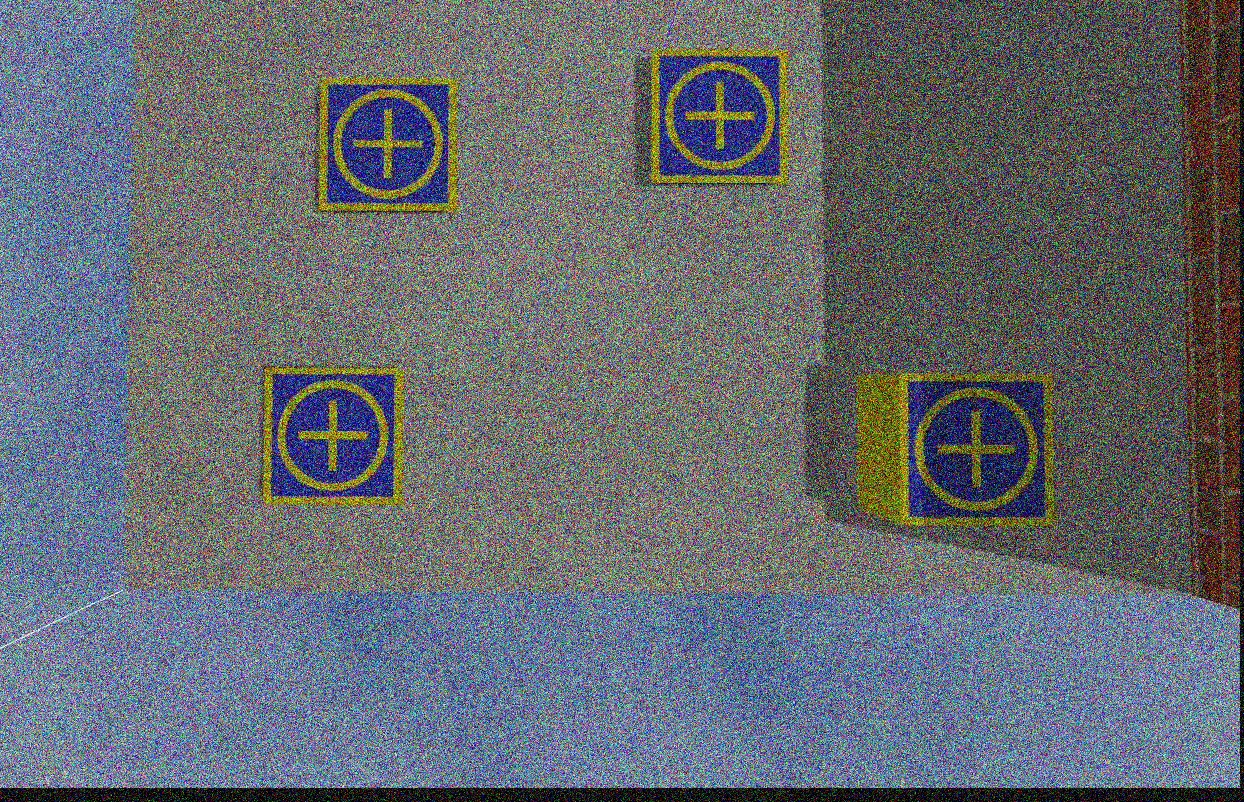small_base: (897, 371, 1058, 528), (263, 367, 409, 504), (651, 47, 789, 184), (321, 81, 457, 214)
